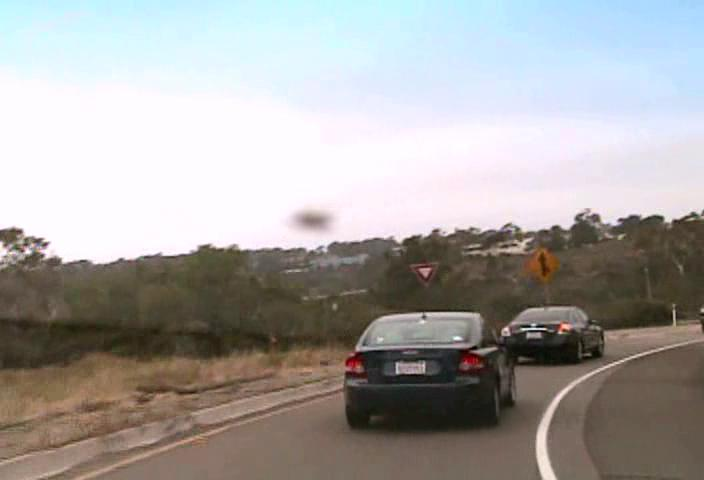merge: (524, 245, 560, 285)
